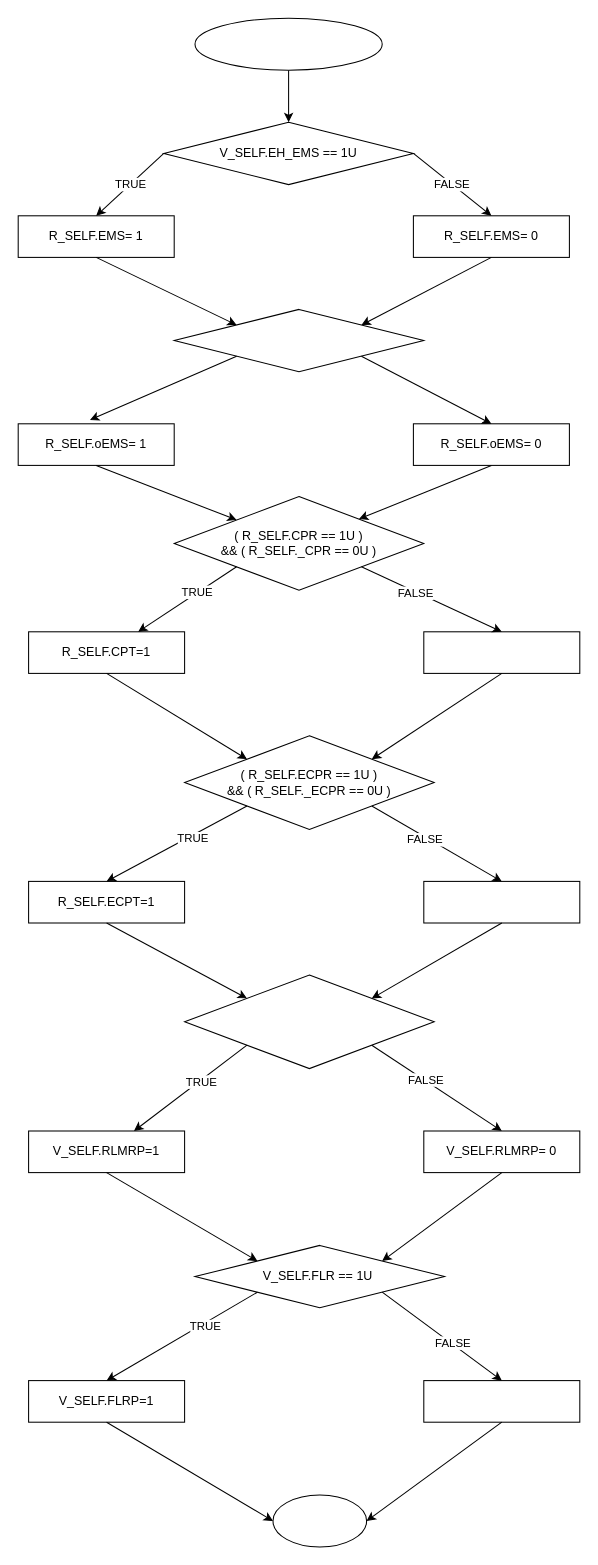
Some shapes in this 598 by 1565 pixel diagram are drawn without their labels. Here are the shapes that lost their labels. From the top down, the centre of each, then its label:
point (288, 43): vSingleTrackDn_Logic_Alarm
point (298, 340): R_SELF.EMS == 1U
point (501, 652): R_SELF.CPT= 0
point (501, 901): R_SELF.ECPT= 0
point (309, 1021): ( R_SELF.RLMR_M == 1U ) || ( R_SELF.RLMR_A == 1U )
point (501, 1401): V_SELF.FLRP=0
point (319, 1520): END
